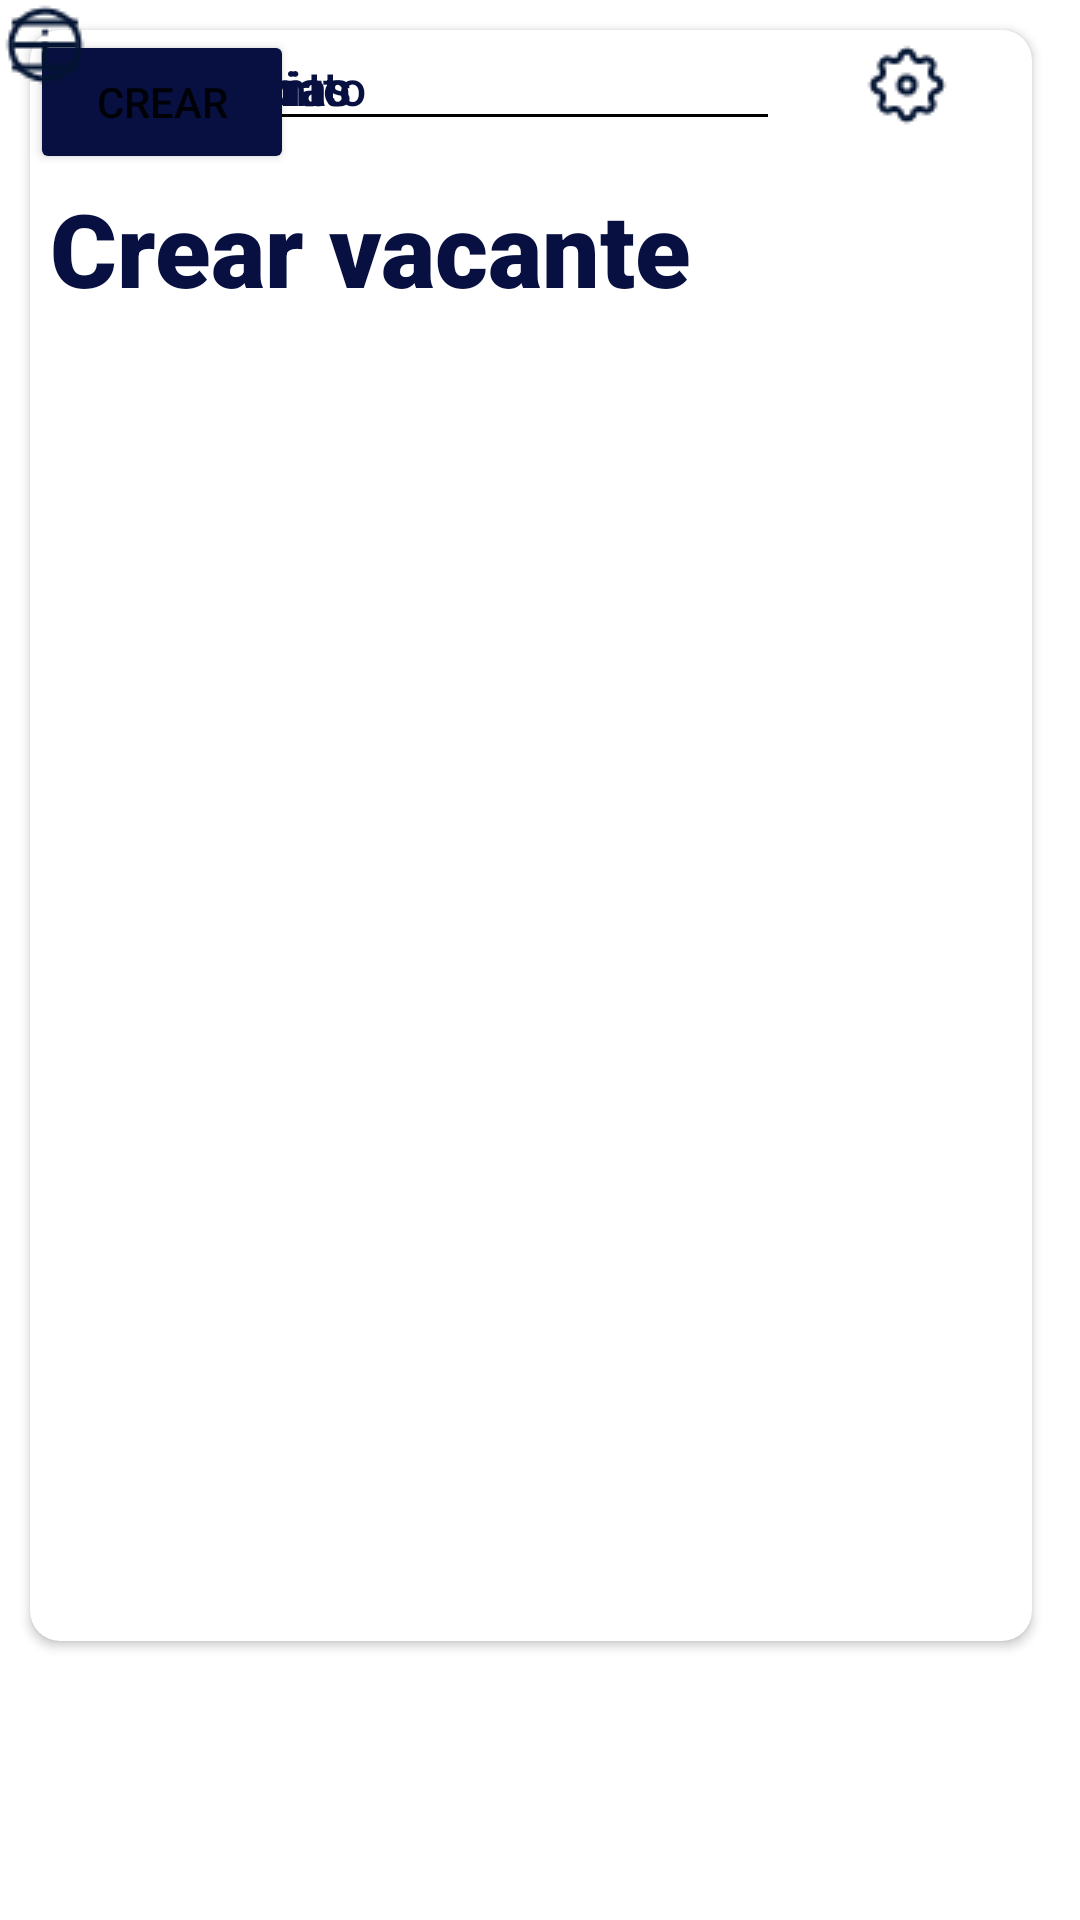

Icons on this 1080w x 1920h Android screen, each with its box as (x1, y1, x2, y2):
settings: (868, 46, 946, 124)
